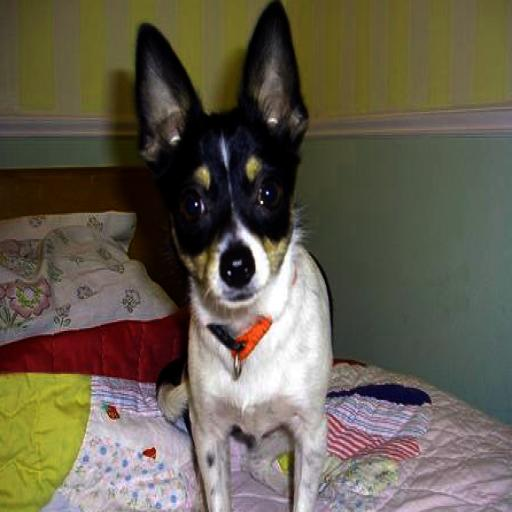dog_face: (142, 4, 295, 303)
